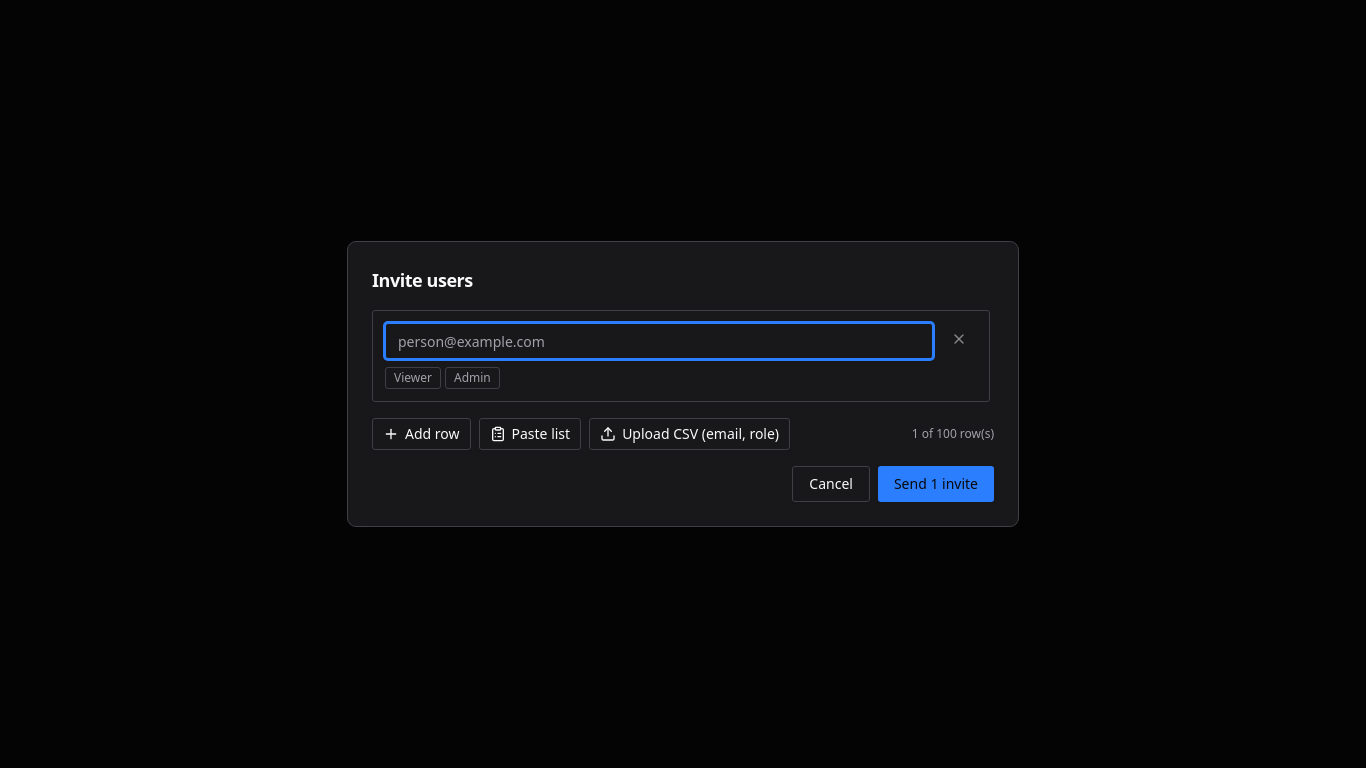
InviteDialog — client guards › flags a case-variant duplicate on its row and sends nothing
The width and height of the screenshot is (1366, 768).
Type "ada@example.com" into the field named "Invitee 1 email" at (659, 341), box [385,323,933,359]
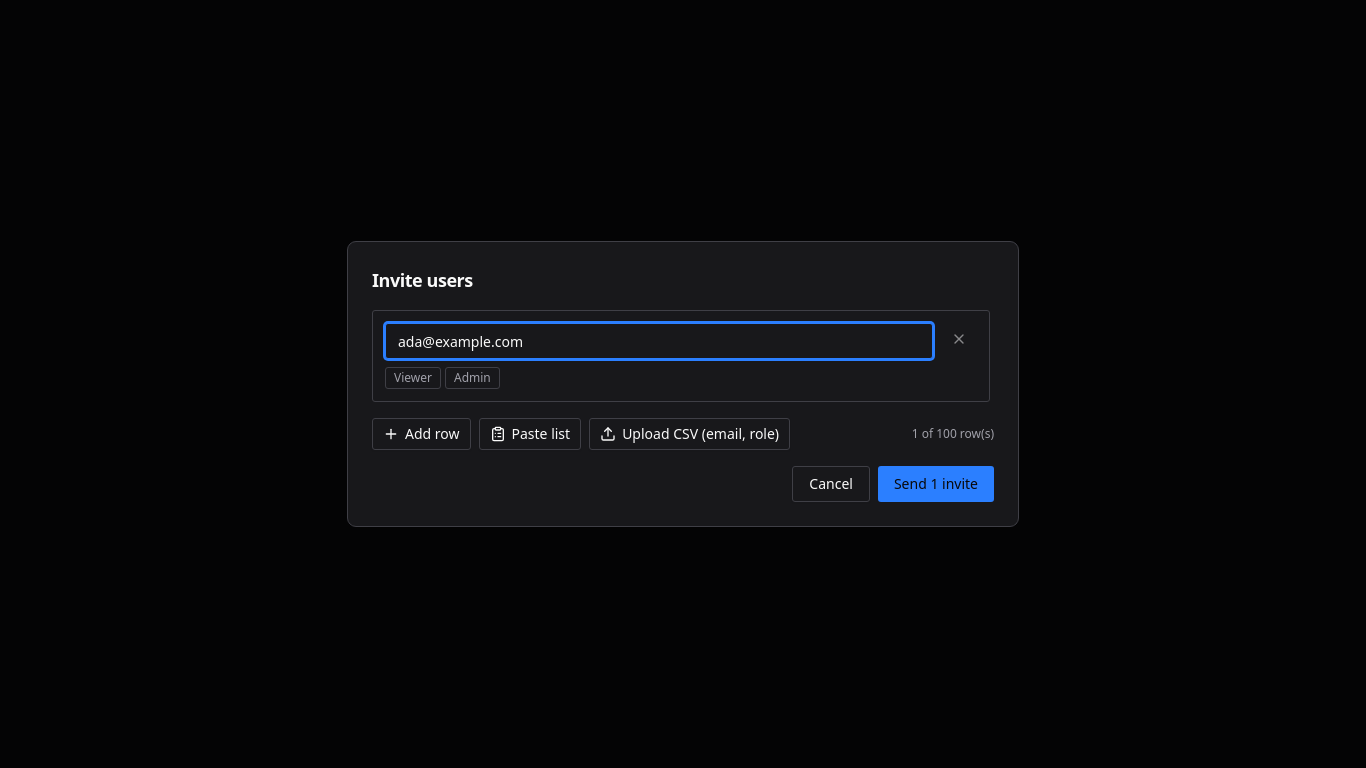
Click the button "Viewer" at (413, 378), box [385,367,441,389]
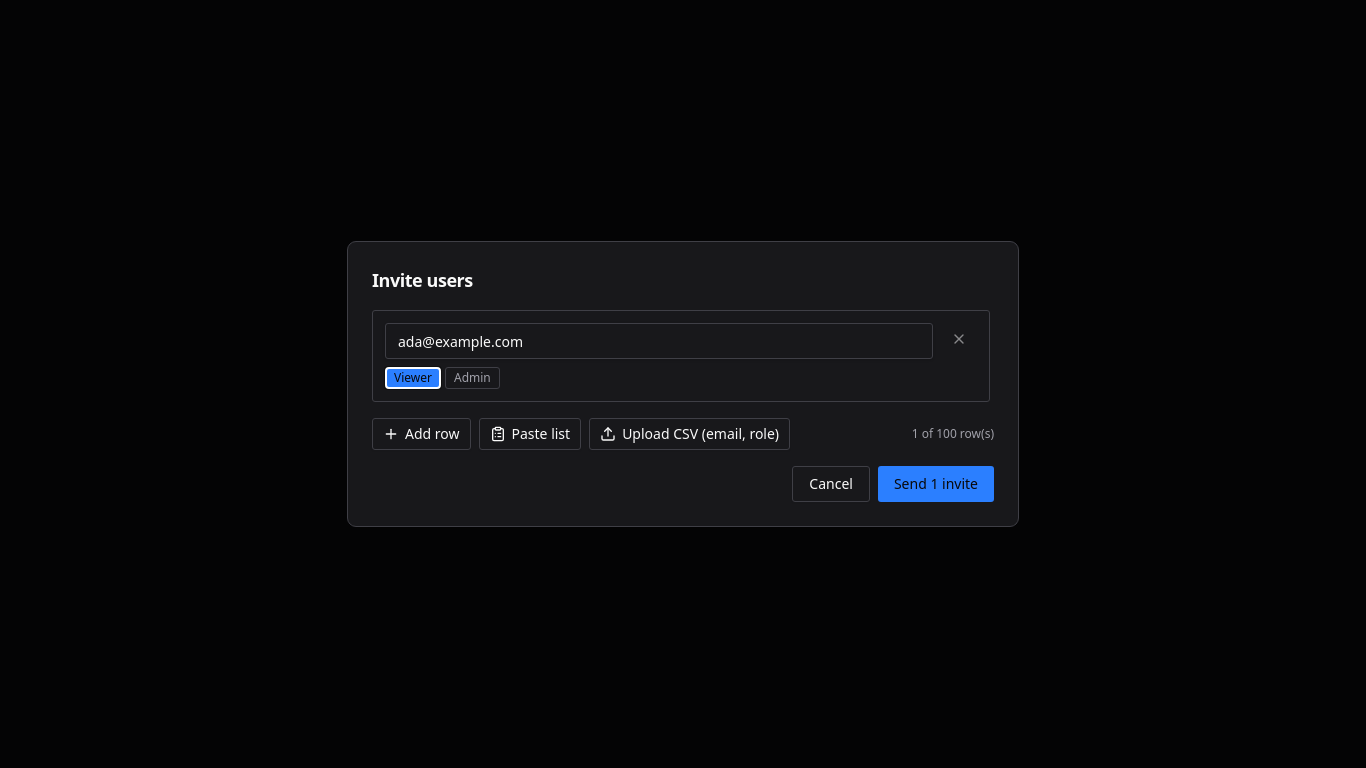
Click the button "Add row" at (421, 434), box [372,418,470,450]
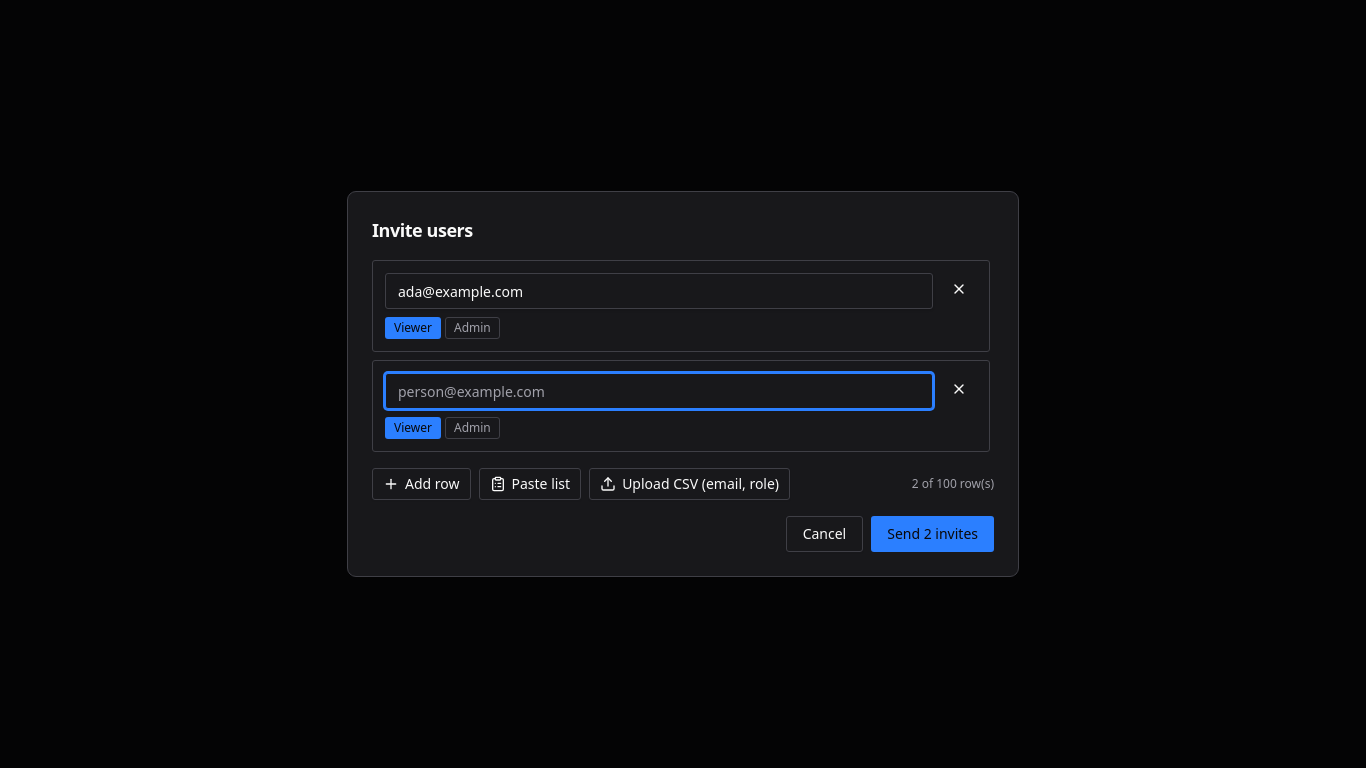
Type "Ada@example.com" into the field named "Invitee 2 email" at (659, 391), box [385,373,933,409]
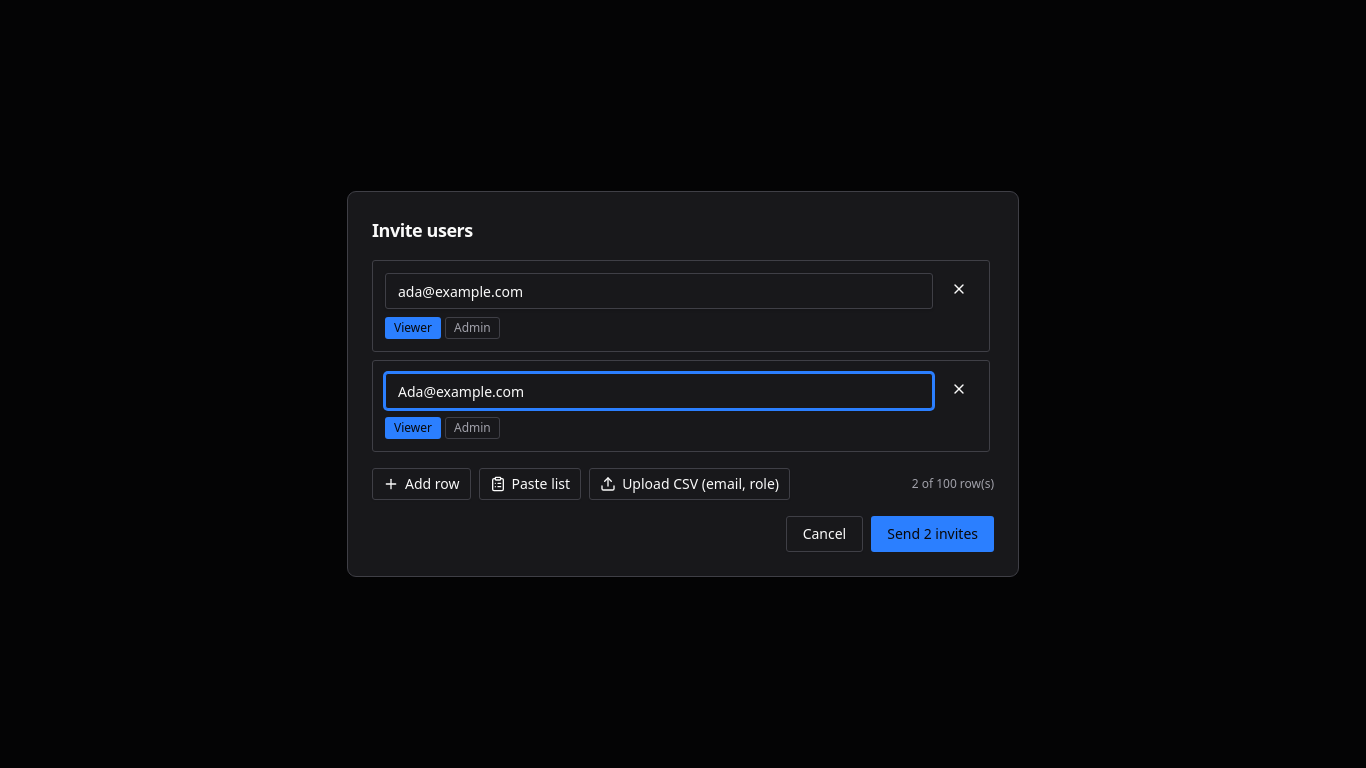
Click the button "Send 2 invites" at (933, 534), box [871,516,994,552]
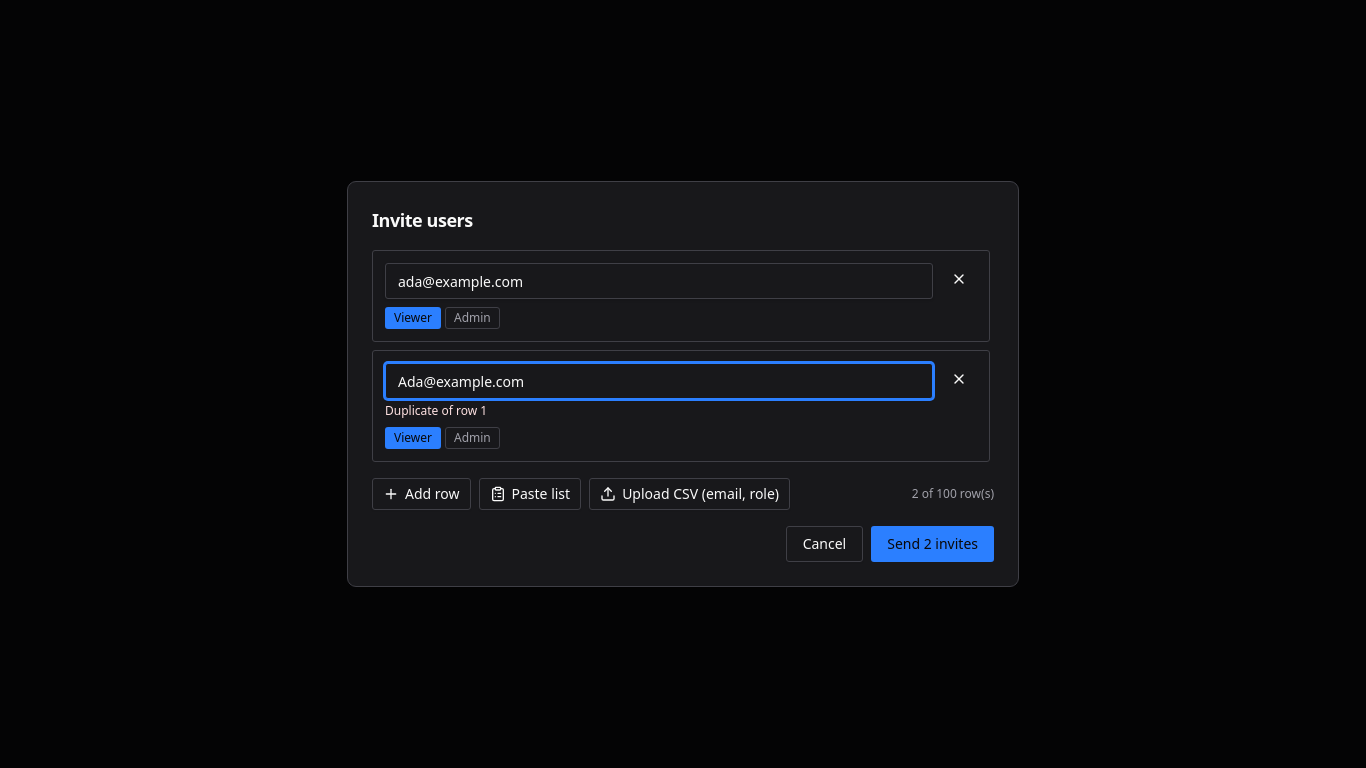
expect the text "Duplicate of row 1" is shown: met, box [385,402,487,419]
